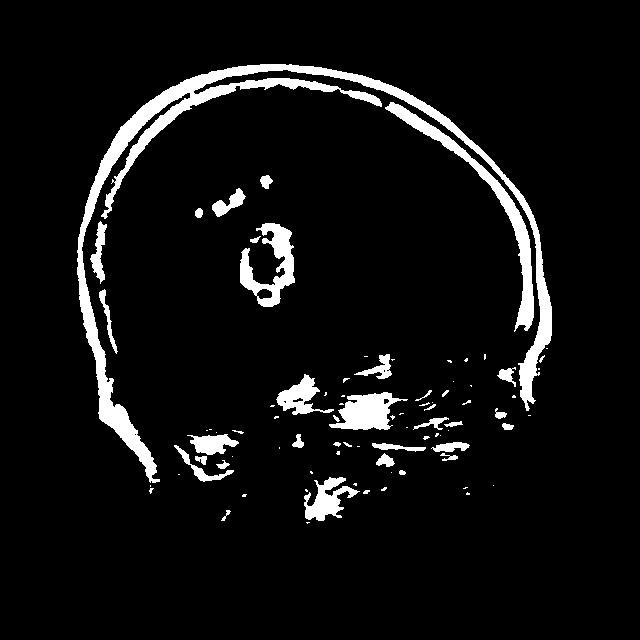Brain-Tumor: (229, 210, 323, 324)
